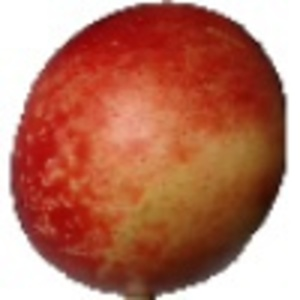nectarina: (3, 1, 290, 300)
